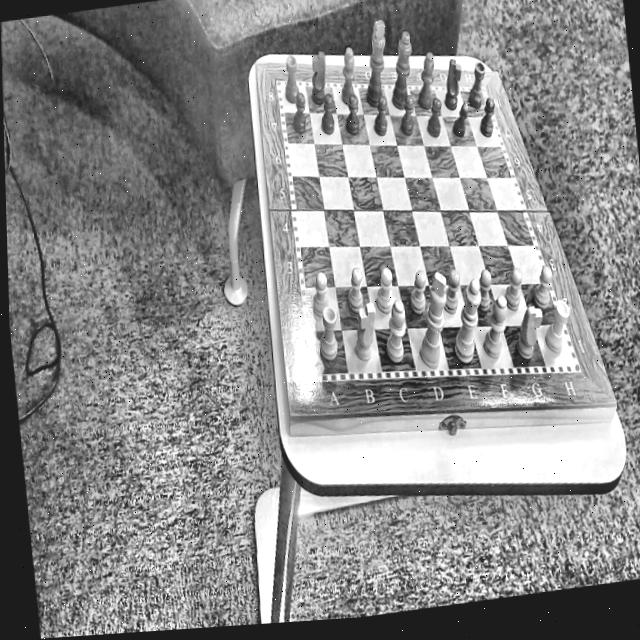chessboard: (281, 86, 576, 371)
